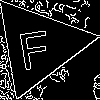F: (14, 20, 54, 71)
